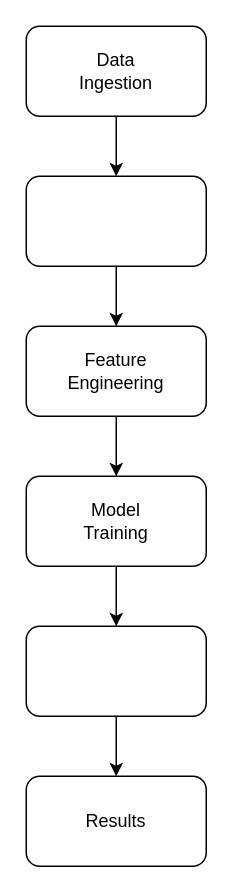
Image size: 233x893. Some labels were removed from this diagram. The shapes that lost their labels are listed below. From the top down, each one's centre as x and y in pixels, then its label:
[115,220]: Pre-processing
[115,670]: Evaluation
